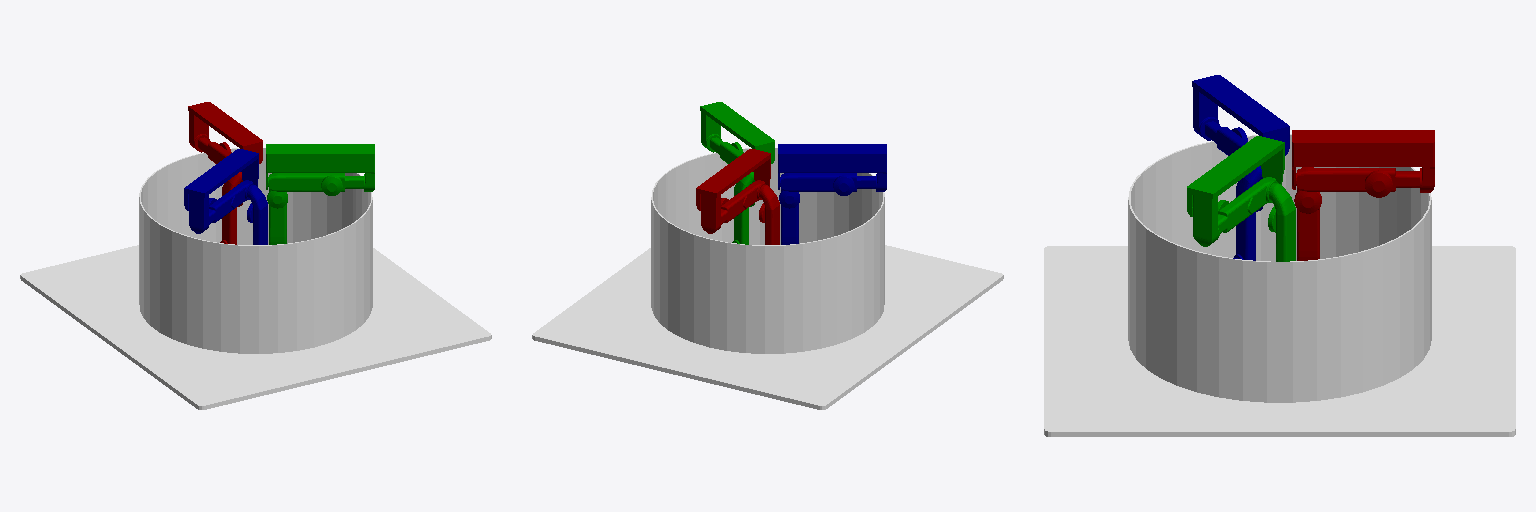
--- Facts derived from the render (not from the file) ---
Views: 3 orthographic renders of the robot side by side, from view 1: azimuth 30°, elevation 25°; view 2: azimuth 150°, elevation 25°; view 3: azimuth 270°, elevation 25°.
Model trifingeredu_with_stage with 19 links and 18 joints (9 revolute, 9 fixed), rooted at base_link, posed all joints at 0.
Visible links, largest first — view 1: boundary_link, table_link, finger_base_link_120, finger_base_link_240, finger_base_link_0, finger_upper_link_120, finger_middle_link_240, finger_middle_link_120, finger_upper_link_240, finger_middle_link_0; view 2: boundary_link, table_link, finger_base_link_240, finger_base_link_0, finger_base_link_120, finger_upper_link_240, finger_middle_link_0, finger_middle_link_240, finger_upper_link_0, finger_middle_link_120; view 3: boundary_link, table_link, finger_base_link_0, finger_base_link_120, finger_base_link_240, finger_upper_link_0, finger_middle_link_120, finger_middle_link_0, finger_upper_link_120, finger_middle_link_240, finger_upper_link_240.
Link boxes in pixels (<box>): boundary_link: <box>139,148,372,353</box>; table_link: <box>20,245,491,409</box>; finger_base_link_120: <box>266,144,374,191</box>; finger_base_link_240: <box>184,149,258,233</box>; finger_base_link_0: <box>188,102,262,163</box>; finger_upper_link_120: <box>268,173,363,195</box>; finger_middle_link_240: <box>247,185,267,244</box>; finger_middle_link_120: <box>267,190,287,244</box>; finger_upper_link_240: <box>209,180,253,223</box>; finger_middle_link_0: <box>220,172,242,244</box>; boundary_link: <box>651,148,884,353</box>; table_link: <box>532,245,1003,409</box>; finger_base_link_240: <box>778,144,886,191</box>; finger_base_link_0: <box>696,149,770,233</box>; finger_base_link_120: <box>700,102,774,163</box>; finger_upper_link_240: <box>780,173,875,195</box>; finger_middle_link_0: <box>759,185,779,244</box>; finger_middle_link_240: <box>779,190,799,244</box>; finger_upper_link_0: <box>721,180,765,223</box>; finger_middle_link_120: <box>732,172,754,244</box>; boundary_link: <box>1128,134,1431,402</box>; table_link: <box>1044,246,1515,436</box>; finger_base_link_0: <box>1292,130,1434,192</box>; finger_base_link_120: <box>1187,136,1284,246</box>; finger_base_link_240: <box>1192,75,1289,155</box>; finger_upper_link_0: <box>1296,167,1419,197</box>; finger_middle_link_120: <box>1268,183,1295,261</box>; finger_middle_link_0: <box>1294,190,1321,260</box>; finger_upper_link_120: <box>1218,177,1277,233</box>; finger_middle_link_240: <box>1234,166,1262,260</box>; finger_upper_link_240: <box>1205,121,1247,155</box>.
Size in the robot's own frame: 0.71 by 0.76 by 0.4095 metres.
Meshes: 9 distinct files referenced, 23 mesh visuals loaded (9 OBJ).

The robot description file, URDF, robot "trifingeredu_with_stage":
<?xml version="1.0" ?>
<!-- =================================================================================== -->
<!-- |    This document was autogenerated by xacro from robot_properties_fingers/xacro/edu/trifingeredu_with_stage.urdf.xacro | -->
<!-- |    EDITING THIS FILE BY HAND IS NOT RECOMMENDED                                 | -->
<!-- =================================================================================== -->
<robot name="trifingeredu_with_stage">
  <!--
    Frames are defined such that they all align with the base frame when all
    joints are at position zero.

    In zero-configuration the origins of all joints are in one line.
    -->
  <!-- Define the global base_link and place all other objects relative to it. -->
  <link name="base_link">
    <inertial>
      <origin rpy="0 0 0" xyz="0 0 0"/>
      <mass value="1"/>
      <inertia ixx="4.166666666666667e-06" ixy="0" ixz="0" iyy="4.166666666666667e-06" iyz="0" izz="4.166666666666667e-06"/>
    </inertial>
  </link>
  <!-- Define the upper holder -->
  <link name="trifinger_base_link">
    <inertial>
      <origin rpy="0 0 0" xyz="0 0 0"/>
      <mass value="1"/>
      <inertia ixx="4.166666666666667e-06" ixy="0" ixz="0" iyy="4.166666666666667e-06" iyz="0" izz="4.166666666666667e-06"/>
    </inertial>
  </link>
  <joint name="base_to_trifinger_base_joint" type="fixed">
    <parent link="base_link"/>
    <child link="trifinger_base_link"/>
    <origin rpy="0 0 -1.5707963267948966" xyz="0 0 0.283"/>
  </joint>
  <material name="fingeredu_0_material">
    <color rgba="0.6 0.0 0.0 1.0"/>
  </material>
  <material name="fingeredu_120_material">
    <color rgba="0.0 0.6 0.0 1.0"/>
  </material>
  <material name="fingeredu_240_material">
    <color rgba="0.0 0.0 0.6 1.0"/>
  </material>
  <!--
        Fixed links for the finger base (parts where the upper link is mounted).
        -->
  <link name="finger_base_link_0">
    <visual>
      <origin rpy="0 0 0" xyz="-0.17995 0 0"/>
      <geometry>
        <mesh filename="package://robot_properties_fingers/meshes/edu/base_back.obj" scale="1 1 1"/>
      </geometry>
      <material name="fingeredu_0_material"/>
    </visual>
    <collision>
      <origin rpy="0 0 0" xyz="-0.17995 0 0"/>
      <geometry>
        <mesh filename="package://robot_properties_fingers/meshes/edu/base_back.obj" scale="1 1 1"/>
      </geometry>
    </collision>
    <visual>
      <origin rpy="0 0 0" xyz="0.025500000000000002 0 0"/>
      <geometry>
        <mesh filename="package://robot_properties_fingers/meshes/edu/base_front.obj" scale="1 1 1"/>
      </geometry>
      <material name="fingeredu_0_material"/>
    </visual>
    <collision>
      <origin rpy="0 0 0" xyz="0.025500000000000002 0 0"/>
      <geometry>
        <mesh filename="package://robot_properties_fingers/meshes/edu/base_front.obj" scale="1 1 1"/>
      </geometry>
    </collision>
    <visual>
      <origin rpy="0 0 0" xyz="0.025500000000000002 0.02 0.08"/>
      <geometry>
        <mesh filename="package://robot_properties_fingers/meshes/edu/base_side_left.obj" scale="1 1 1"/>
      </geometry>
      <material name="fingeredu_0_material"/>
    </visual>
    <collision>
      <origin rpy="0 0 0" xyz="0.025500000000000002 0.02 0.08"/>
      <geometry>
        <mesh filename="package://robot_properties_fingers/meshes/edu/base_side_left.obj" scale="1 1 1"/>
      </geometry>
    </collision>
    <!-- Disable this part.  It is not very relevant for collisions but
                 would cause trouble in pybullet due to its concavity.
            <xacro:add_geometry
                rpy="0 0 0"
                xyz="${offset_x_base_to_front} -0.02 ${offset_z_base_to_top}"
                mesh_file="${mesh_dir}/base_side_right.obj"
                material="${material}" />
            -->
    <visual>
      <origin rpy="0 0 0" xyz="0.025500000000000002 0 0.08"/>
      <geometry>
        <mesh filename="package://robot_properties_fingers/meshes/edu/base_top.obj" scale="1 1 1"/>
      </geometry>
      <material name="fingeredu_0_material"/>
    </visual>
    <collision>
      <origin rpy="0 0 0" xyz="0.025500000000000002 0 0.08"/>
      <geometry>
        <mesh filename="package://robot_properties_fingers/meshes/edu/base_top.obj" scale="1 1 1"/>
      </geometry>
    </collision>
    <inertial>
      <origin rpy="0 0 0" xyz="-0.1 0 0.4"/>
      <mass value="1"/>
      <inertia ixx="0.060833333333333336" ixy="0" ixz="0" iyy="0.05666666666666668" iyz="0" izz="0.010833333333333334"/>
    </inertial>
  </link>
  <!-- The movable links (upper, middle and lower) of the finger. -->
  <!-- FIXME inertias are not correct! -->
  <link name="finger_upper_link_0">
    <visual>
      <origin rpy="0 0 0" xyz="0.0195 0 0"/>
      <geometry>
        <mesh filename="package://robot_properties_fingers/meshes/edu/upper_link.obj" scale="1 1 1"/>
      </geometry>
      <material name="fingeredu_0_material"/>
    </visual>
    <collision>
      <origin rpy="0 0 0" xyz="0.0195 0 0"/>
      <geometry>
        <mesh filename="package://robot_properties_fingers/meshes/edu/upper_link.obj" scale="1 1 1"/>
      </geometry>
    </collision>
    <inertial>
      <!-- Note: This uses the values from the middle link, assuming
                     that it is similar enough. -->
      <!-- CoM is only estimated based -->
      <origin rpy="0 0 0" xyz="-0.079 0 0"/>
      <mass value="0.14854"/>
      <inertia ixx="0.00003" ixy="0.00005" ixz="0.00000" iyy="0.00041" iyz="0.00000" izz="0.00041"/>
    </inertial>
  </link>
  <link name="finger_middle_link_0">
    <visual>
      <origin rpy="0 0 0" xyz="0 0 0"/>
      <geometry>
        <mesh filename="package://robot_properties_fingers/meshes/edu/middle_link.obj" scale="1 1 1"/>
      </geometry>
      <material name="fingeredu_0_material"/>
    </visual>
    <collision>
      <origin rpy="0 0 0" xyz="0 0 0"/>
      <geometry>
        <mesh filename="package://robot_properties_fingers/meshes/edu/middle_link.obj" scale="1 1 1"/>
      </geometry>
    </collision>
    <inertial>
      <origin rpy="0 0 0" xyz="0 -0.019 -0.079"/>
      <mass value="0.14854"/>
      <inertia ixx="0.00041" ixy="0.00000" ixz="0.00000" iyy="0.00041" iyz="0.00005" izz="0.00003"/>
    </inertial>
  </link>
  <link name="finger_lower_link_0">
    <visual>
      <origin rpy="0 0 0" xyz="0 0 0"/>
      <geometry>
        <mesh filename="package://robot_properties_fingers/meshes/edu/lower_link.obj" scale="1 1 1"/>
      </geometry>
      <material name="fingeredu_0_material"/>
    </visual>
    <collision>
      <origin rpy="0 0 0" xyz="0 0 0"/>
      <geometry>
        <mesh filename="package://robot_properties_fingers/meshes/edu/lower_link.obj" scale="1 1 1"/>
      </geometry>
    </collision>
    <!-- TODO: these are the inertial values from the Solo lower leg
                 link which is similar but not exactly the same to the FingerEdu
                 lower link. -->
    <inertial>
      <origin rpy="0 0 0" xyz="0 -0.009 -0.089"/>
      <mass value="0.03070"/>
      <inertia ixx="0.00012" ixy="0.00000" ixz="0.00000" iyy="0.00012" iyz="0.00000" izz="0.00000"/>
    </inertial>
  </link>
  <!-- fixed link for finger tip -->
  <link name="finger_tip_link_0">
    <inertial>
      <origin rpy="0 0 0" xyz="0 0 0"/>
      <mass value="0.01"/>
      <inertia ixx="1.6666666666666668e-07" ixy="0" ixz="0" iyy="1.6666666666666668e-07" iyz="0" izz="1.6666666666666668e-07"/>
    </inertial>
  </link>
  <joint name="finger_lower_to_tip_joint_0" type="fixed">
    <parent link="finger_lower_link_0"/>
    <child link="finger_tip_link_0"/>
    <origin xyz="0 -0.008 -0.16"/>
  </joint>
  <!-- kinematics -->
  <joint name="finger_base_to_upper_joint_0" type="revolute">
    <parent link="finger_base_link_0"/>
    <child link="finger_upper_link_0"/>
    <limit effort="1000" lower="-1.5707963267948966" upper="1.5707963267948966" velocity="1000"/>
    <axis xyz="-1 0 0"/>
    <origin rpy="0 0 0" xyz="0 0 0"/>
  </joint>
  <joint name="finger_upper_to_middle_joint_0" type="revolute">
    <parent link="finger_upper_link_0"/>
    <child link="finger_middle_link_0"/>
    <limit effort="1000" lower="-1.5707963267948966" upper="1.5707963267948966" velocity="1000"/>
    <axis xyz="0 1 0"/>
    <origin rpy="0 0 0" xyz="0 -0.014 0"/>
  </joint>
  <joint name="finger_middle_to_lower_joint_0" type="revolute">
    <parent link="finger_middle_link_0"/>
    <child link="finger_lower_link_0"/>
    <limit effort="1000" lower="-3.141592653589793" upper="3.141592653589793" velocity="1000"/>
    <axis xyz="0 1 0"/>
    <origin rpy="0 0 0" xyz="0 -0.03745 -0.16"/>
  </joint>
  <!--
        Fixed links for the finger base (parts where the upper link is mounted).
        -->
  <link name="finger_base_link_120">
    <visual>
      <origin rpy="0 0 0" xyz="-0.17995 0 0"/>
      <geometry>
        <mesh filename="package://robot_properties_fingers/meshes/edu/base_back.obj" scale="1 1 1"/>
      </geometry>
      <material name="fingeredu_120_material"/>
    </visual>
    <collision>
      <origin rpy="0 0 0" xyz="-0.17995 0 0"/>
      <geometry>
        <mesh filename="package://robot_properties_fingers/meshes/edu/base_back.obj" scale="1 1 1"/>
      </geometry>
    </collision>
    <visual>
      <origin rpy="0 0 0" xyz="0.025500000000000002 0 0"/>
      <geometry>
        <mesh filename="package://robot_properties_fingers/meshes/edu/base_front.obj" scale="1 1 1"/>
      </geometry>
      <material name="fingeredu_120_material"/>
    </visual>
    <collision>
      <origin rpy="0 0 0" xyz="0.025500000000000002 0 0"/>
      <geometry>
        <mesh filename="package://robot_properties_fingers/meshes/edu/base_front.obj" scale="1 1 1"/>
      </geometry>
    </collision>
    <visual>
      <origin rpy="0 0 0" xyz="0.025500000000000002 0.02 0.08"/>
      <geometry>
        <mesh filename="package://robot_properties_fingers/meshes/edu/base_side_left.obj" scale="1 1 1"/>
      </geometry>
      <material name="fingeredu_120_material"/>
    </visual>
    <collision>
      <origin rpy="0 0 0" xyz="0.025500000000000002 0.02 0.08"/>
      <geometry>
        <mesh filename="package://robot_properties_fingers/meshes/edu/base_side_left.obj" scale="1 1 1"/>
      </geometry>
    </collision>
    <!-- Disable this part.  It is not very relevant for collisions but
                 would cause trouble in pybullet due to its concavity.
            <xacro:add_geometry
                rpy="0 0 0"
                xyz="${offset_x_base_to_front} -0.02 ${offset_z_base_to_top}"
                mesh_file="${mesh_dir}/base_side_right.obj"
                material="${material}" />
            -->
    <visual>
      <origin rpy="0 0 0" xyz="0.025500000000000002 0 0.08"/>
      <geometry>
        <mesh filename="package://robot_properties_fingers/meshes/edu/base_top.obj" scale="1 1 1"/>
      </geometry>
      <material name="fingeredu_120_material"/>
    </visual>
    <collision>
      <origin rpy="0 0 0" xyz="0.025500000000000002 0 0.08"/>
      <geometry>
        <mesh filename="package://robot_properties_fingers/meshes/edu/base_top.obj" scale="1 1 1"/>
      </geometry>
    </collision>
    <inertial>
      <origin rpy="0 0 0" xyz="-0.1 0 0.4"/>
      <mass value="1"/>
      <inertia ixx="0.060833333333333336" ixy="0" ixz="0" iyy="0.05666666666666668" iyz="0" izz="0.010833333333333334"/>
    </inertial>
  </link>
  <!-- The movable links (upper, middle and lower) of the finger. -->
  <!-- FIXME inertias are not correct! -->
  <link name="finger_upper_link_120">
    <visual>
      <origin rpy="0 0 0" xyz="0.0195 0 0"/>
      <geometry>
        <mesh filename="package://robot_properties_fingers/meshes/edu/upper_link.obj" scale="1 1 1"/>
      </geometry>
      <material name="fingeredu_120_material"/>
    </visual>
    <collision>
      <origin rpy="0 0 0" xyz="0.0195 0 0"/>
      <geometry>
        <mesh filename="package://robot_properties_fingers/meshes/edu/upper_link.obj" scale="1 1 1"/>
      </geometry>
    </collision>
    <inertial>
      <!-- Note: This uses the values from the middle link, assuming
                     that it is similar enough. -->
      <!-- CoM is only estimated based -->
      <origin rpy="0 0 0" xyz="-0.079 0 0"/>
      <mass value="0.14854"/>
      <inertia ixx="0.00003" ixy="0.00005" ixz="0.00000" iyy="0.00041" iyz="0.00000" izz="0.00041"/>
    </inertial>
  </link>
  <link name="finger_middle_link_120">
    <visual>
      <origin rpy="0 0 0" xyz="0 0 0"/>
      <geometry>
        <mesh filename="package://robot_properties_fingers/meshes/edu/middle_link.obj" scale="1 1 1"/>
      </geometry>
      <material name="fingeredu_120_material"/>
    </visual>
    <collision>
      <origin rpy="0 0 0" xyz="0 0 0"/>
      <geometry>
        <mesh filename="package://robot_properties_fingers/meshes/edu/middle_link.obj" scale="1 1 1"/>
      </geometry>
    </collision>
    <inertial>
      <origin rpy="0 0 0" xyz="0 -0.019 -0.079"/>
      <mass value="0.14854"/>
      <inertia ixx="0.00041" ixy="0.00000" ixz="0.00000" iyy="0.00041" iyz="0.00005" izz="0.00003"/>
    </inertial>
  </link>
  <link name="finger_lower_link_120">
    <visual>
      <origin rpy="0 0 0" xyz="0 0 0"/>
      <geometry>
        <mesh filename="package://robot_properties_fingers/meshes/edu/lower_link.obj" scale="1 1 1"/>
      </geometry>
      <material name="fingeredu_120_material"/>
    </visual>
    <collision>
      <origin rpy="0 0 0" xyz="0 0 0"/>
      <geometry>
        <mesh filename="package://robot_properties_fingers/meshes/edu/lower_link.obj" scale="1 1 1"/>
      </geometry>
    </collision>
    <!-- TODO: these are the inertial values from the Solo lower leg
                 link which is similar but not exactly the same to the FingerEdu
                 lower link. -->
    <inertial>
      <origin rpy="0 0 0" xyz="0 -0.009 -0.089"/>
      <mass value="0.03070"/>
      <inertia ixx="0.00012" ixy="0.00000" ixz="0.00000" iyy="0.00012" iyz="0.00000" izz="0.00000"/>
    </inertial>
  </link>
  <!-- fixed link for finger tip -->
  <link name="finger_tip_link_120">
    <inertial>
      <origin rpy="0 0 0" xyz="0 0 0"/>
      <mass value="0.01"/>
      <inertia ixx="1.6666666666666668e-07" ixy="0" ixz="0" iyy="1.6666666666666668e-07" iyz="0" izz="1.6666666666666668e-07"/>
    </inertial>
  </link>
  <joint name="finger_lower_to_tip_joint_120" type="fixed">
    <parent link="finger_lower_link_120"/>
    <child link="finger_tip_link_120"/>
    <origin xyz="0 -0.008 -0.16"/>
  </joint>
  <!-- kinematics -->
  <joint name="finger_base_to_upper_joint_120" type="revolute">
    <parent link="finger_base_link_120"/>
    <child link="finger_upper_link_120"/>
    <limit effort="1000" lower="-1.5707963267948966" upper="1.5707963267948966" velocity="1000"/>
    <axis xyz="-1 0 0"/>
    <origin rpy="0 0 0" xyz="0 0 0"/>
  </joint>
  <joint name="finger_upper_to_middle_joint_120" type="revolute">
    <parent link="finger_upper_link_120"/>
    <child link="finger_middle_link_120"/>
    <limit effort="1000" lower="-1.5707963267948966" upper="1.5707963267948966" velocity="1000"/>
    <axis xyz="0 1 0"/>
    <origin rpy="0 0 0" xyz="0 -0.014 0"/>
  </joint>
  <joint name="finger_middle_to_lower_joint_120" type="revolute">
    <parent link="finger_middle_link_120"/>
    <child link="finger_lower_link_120"/>
    <limit effort="1000" lower="-3.141592653589793" upper="3.141592653589793" velocity="1000"/>
    <axis xyz="0 1 0"/>
    <origin rpy="0 0 0" xyz="0 -0.03745 -0.16"/>
  </joint>
  <!--
        Fixed links for the finger base (parts where the upper link is mounted).
        -->
  <link name="finger_base_link_240">
    <visual>
      <origin rpy="0 0 0" xyz="-0.17995 0 0"/>
      <geometry>
        <mesh filename="package://robot_properties_fingers/meshes/edu/base_back.obj" scale="1 1 1"/>
      </geometry>
      <material name="fingeredu_240_material"/>
    </visual>
    <collision>
      <origin rpy="0 0 0" xyz="-0.17995 0 0"/>
      <geometry>
        <mesh filename="package://robot_properties_fingers/meshes/edu/base_back.obj" scale="1 1 1"/>
      </geometry>
    </collision>
    <visual>
      <origin rpy="0 0 0" xyz="0.025500000000000002 0 0"/>
      <geometry>
        <mesh filename="package://robot_properties_fingers/meshes/edu/base_front.obj" scale="1 1 1"/>
      </geometry>
      <material name="fingeredu_240_material"/>
    </visual>
    <collision>
      <origin rpy="0 0 0" xyz="0.025500000000000002 0 0"/>
      <geometry>
        <mesh filename="package://robot_properties_fingers/meshes/edu/base_front.obj" scale="1 1 1"/>
      </geometry>
    </collision>
    <visual>
      <origin rpy="0 0 0" xyz="0.025500000000000002 0.02 0.08"/>
      <geometry>
        <mesh filename="package://robot_properties_fingers/meshes/edu/base_side_left.obj" scale="1 1 1"/>
      </geometry>
      <material name="fingeredu_240_material"/>
    </visual>
    <collision>
      <origin rpy="0 0 0" xyz="0.025500000000000002 0.02 0.08"/>
      <geometry>
        <mesh filename="package://robot_properties_fingers/meshes/edu/base_side_left.obj" scale="1 1 1"/>
      </geometry>
    </collision>
    <!-- Disable this part.  It is not very relevant for collisions but
                 would cause trouble in pybullet due to its concavity.
            <xacro:add_geometry
                rpy="0 0 0"
                xyz="${offset_x_base_to_front} -0.02 ${offset_z_base_to_top}"
                mesh_file="${mesh_dir}/base_side_right.obj"
                material="${material}" />
            -->
    <visual>
      <origin rpy="0 0 0" xyz="0.025500000000000002 0 0.08"/>
      <geometry>
        <mesh filename="package://robot_properties_fingers/meshes/edu/base_top.obj" scale="1 1 1"/>
      </geometry>
      <material name="fingeredu_240_material"/>
    </visual>
    <collision>
      <origin rpy="0 0 0" xyz="0.025500000000000002 0 0.08"/>
      <geometry>
        <mesh filename="package://robot_properties_fingers/meshes/edu/base_top.obj" scale="1 1 1"/>
      </geometry>
    </collision>
    <inertial>
      <origin rpy="0 0 0" xyz="-0.1 0 0.4"/>
      <mass value="1"/>
      <inertia ixx="0.060833333333333336" ixy="0" ixz="0" iyy="0.05666666666666668" iyz="0" izz="0.010833333333333334"/>
    </inertial>
  </link>
  <!-- The movable links (upper, middle and lower) of the finger. -->
  <!-- FIXME inertias are not correct! -->
  <link name="finger_upper_link_240">
    <visual>
      <origin rpy="0 0 0" xyz="0.0195 0 0"/>
      <geometry>
        <mesh filename="package://robot_properties_fingers/meshes/edu/upper_link.obj" scale="1 1 1"/>
      </geometry>
      <material name="fingeredu_240_material"/>
    </visual>
    <collision>
      <origin rpy="0 0 0" xyz="0.0195 0 0"/>
      <geometry>
        <mesh filename="package://robot_properties_fingers/meshes/edu/upper_link.obj" scale="1 1 1"/>
      </geometry>
    </collision>
    <inertial>
      <!-- Note: This uses the values from the middle link, assuming
                     that it is similar enough. -->
      <!-- CoM is only estimated based -->
      <origin rpy="0 0 0" xyz="-0.079 0 0"/>
      <mass value="0.14854"/>
      <inertia ixx="0.00003" ixy="0.00005" ixz="0.00000" iyy="0.00041" iyz="0.00000" izz="0.00041"/>
    </inertial>
  </link>
  <link name="finger_middle_link_240">
    <visual>
      <origin rpy="0 0 0" xyz="0 0 0"/>
      <geometry>
        <mesh filename="package://robot_properties_fingers/meshes/edu/middle_link.obj" scale="1 1 1"/>
      </geometry>
      <material name="fingeredu_240_material"/>
    </visual>
    <collision>
      <origin rpy="0 0 0" xyz="0 0 0"/>
      <geometry>
        <mesh filename="package://robot_properties_fingers/meshes/edu/middle_link.obj" scale="1 1 1"/>
      </geometry>
    </collision>
    <inertial>
      <origin rpy="0 0 0" xyz="0 -0.019 -0.079"/>
      <mass value="0.14854"/>
      <inertia ixx="0.00041" ixy="0.00000" ixz="0.00000" iyy="0.00041" iyz="0.00005" izz="0.00003"/>
    </inertial>
  </link>
  <link name="finger_lower_link_240">
    <visual>
      <origin rpy="0 0 0" xyz="0 0 0"/>
      <geometry>
        <mesh filename="package://robot_properties_fingers/meshes/edu/lower_link.obj" scale="1 1 1"/>
      </geometry>
      <material name="fingeredu_240_material"/>
    </visual>
    <collision>
      <origin rpy="0 0 0" xyz="0 0 0"/>
      <geometry>
        <mesh filename="package://robot_properties_fingers/meshes/edu/lower_link.obj" scale="1 1 1"/>
      </geometry>
    </collision>
    <!-- TODO: these are the inertial values from the Solo lower leg
                 link which is similar but not exactly the same to the FingerEdu
                 lower link. -->
    <inertial>
      <origin rpy="0 0 0" xyz="0 -0.009 -0.089"/>
      <mass value="0.03070"/>
      <inertia ixx="0.00012" ixy="0.00000" ixz="0.00000" iyy="0.00012" iyz="0.00000" izz="0.00000"/>
    </inertial>
  </link>
  <!-- fixed link for finger tip -->
  <link name="finger_tip_link_240">
    <inertial>
      <origin rpy="0 0 0" xyz="0 0 0"/>
      <mass value="0.01"/>
      <inertia ixx="1.6666666666666668e-07" ixy="0" ixz="0" iyy="1.6666666666666668e-07" iyz="0" izz="1.6666666666666668e-07"/>
    </inertial>
  </link>
  <joint name="finger_lower_to_tip_joint_240" type="fixed">
    <parent link="finger_lower_link_240"/>
    <child link="finger_tip_link_240"/>
    <origin xyz="0 -0.008 -0.16"/>
  </joint>
  <!-- kinematics -->
  <joint name="finger_base_to_upper_joint_240" type="revolute">
    <parent link="finger_base_link_240"/>
    <child link="finger_upper_link_240"/>
    <limit effort="1000" lower="-1.5707963267948966" upper="1.5707963267948966" velocity="1000"/>
    <axis xyz="-1 0 0"/>
    <origin rpy="0 0 0" xyz="0 0 0"/>
  </joint>
  <joint name="finger_upper_to_middle_joint_240" type="revolute">
    <parent link="finger_upper_link_240"/>
    <child link="finger_middle_link_240"/>
    <limit effort="1000" lower="-1.5707963267948966" upper="1.5707963267948966" velocity="1000"/>
    <axis xyz="0 1 0"/>
    <origin rpy="0 0 0" xyz="0 -0.014 0"/>
  </joint>
  <joint name="finger_middle_to_lower_joint_240" type="revolute">
    <parent link="finger_middle_link_240"/>
    <child link="finger_lower_link_240"/>
    <limit effort="1000" lower="-3.141592653589793" upper="3.141592653589793" velocity="1000"/>
    <axis xyz="0 1 0"/>
    <origin rpy="0 0 0" xyz="0 -0.03745 -0.16"/>
  </joint>
  <joint name="base_to_finger_0" type="fixed">
    <parent link="trifinger_base_link"/>
    <child link="finger_base_link_0"/>
    <origin rpy="0 0 0" xyz="-0.0455 0.0 0"/>
  </joint>
  <joint name="base_to_finger_120" type="fixed">
    <parent link="trifinger_base_link"/>
    <child link="finger_base_link_120"/>
    <origin rpy="0 0 -2.0943951023931953" xyz="0.02274999999999999 0.03940415587219196 0"/>
  </joint>
  <joint name="base_to_finger_240" type="fixed">
    <parent link="trifinger_base_link"/>
    <child link="finger_base_link_240"/>
    <origin rpy="0 0 -4.1887902047863905" xyz="0.02275000000000002 -0.03940415587219195 0"/>
  </joint>
  <material name="boundary_material">
    <color rgba="0.95 0.95 0.95 1.0"/>
  </material>
  <link name="table_link">
    <visual>
      <origin rpy="0 0 0" xyz="0 0 0"/>
      <geometry>
        <mesh filename="package://robot_properties_fingers/meshes/stl/trifinger_table_without_border.obj" scale="1 1 1"/>
      </geometry>
      <material name="boundary_material"/>
    </visual>
    <collision>
      <origin rpy="0 0 0" xyz="0 0 0"/>
      <geometry>
        <mesh filename="package://robot_properties_fingers/meshes/stl/trifinger_table_without_border.obj" scale="1 1 1"/>
      </geometry>
    </collision>
    <inertial>
      <origin rpy="0 0 0" xyz="0 0 0"/>
      <mass value="2"/>
      <inertia ixx="0.09628333333333333" ixy="0" ixz="0" iyy="0.08403333333333332" iyz="0" izz="0.18028333333333335"/>
    </inertial>
  </link>
  <link name="boundary_link">
    <visual>
      <origin rpy="0 0 0" xyz="0 0 0"/>
      <geometry>
        <mesh filename="package://robot_properties_fingers/meshes/stl/edu/frame_wall.obj" scale="1 1 1"/>
      </geometry>
      <material name="boundary_material"/>
    </visual>
    <collision>
      <origin rpy="0 0 0" xyz="0 0 0"/>
      <geometry>
        <mesh filename="package://robot_properties_fingers/meshes/stl/edu/frame_wall.obj" scale="1 1 1"/>
      </geometry>
    </collision>
    <inertial>
      <origin rpy="0 0 0" xyz="0 0 0"/>
      <mass value="2"/>
      <inertia ixx="0.05708333333333333" ixy="0" ixz="0" iyy="0.05708333333333333" iyz="0" izz="0.10453333333333334"/>
    </inertial>
  </link>
  <joint name="base_to_table" type="fixed">
    <parent link="base_link"/>
    <child link="table_link"/>
    <origin xyz="0 0 0"/>
  </joint>
  <joint name="table_to_boundary" type="fixed">
    <parent link="table_link"/>
    <child link="boundary_link"/>
    <origin xyz="0 0 0"/>
  </joint>
</robot>
